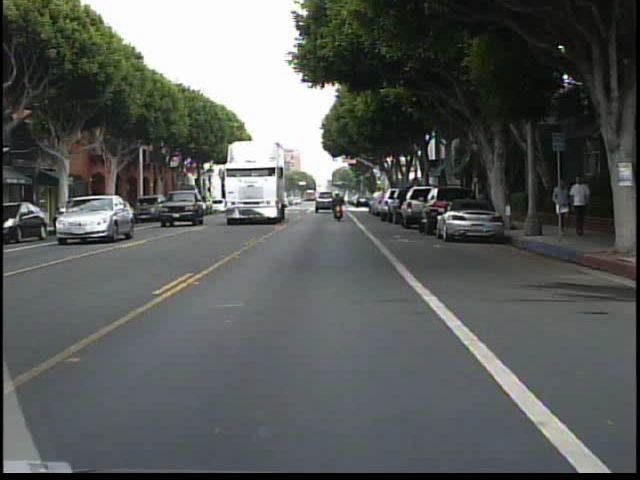person: (568, 172, 593, 235), (549, 175, 569, 235), (329, 189, 349, 221)
